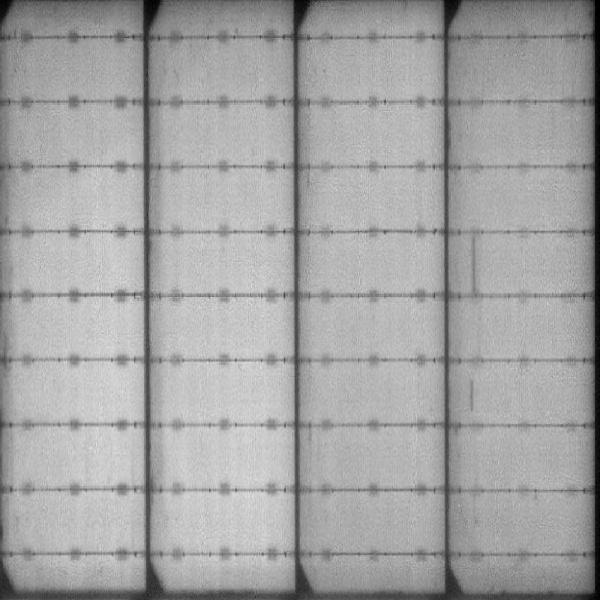scratch: (470, 230, 480, 295), (466, 378, 477, 415)
